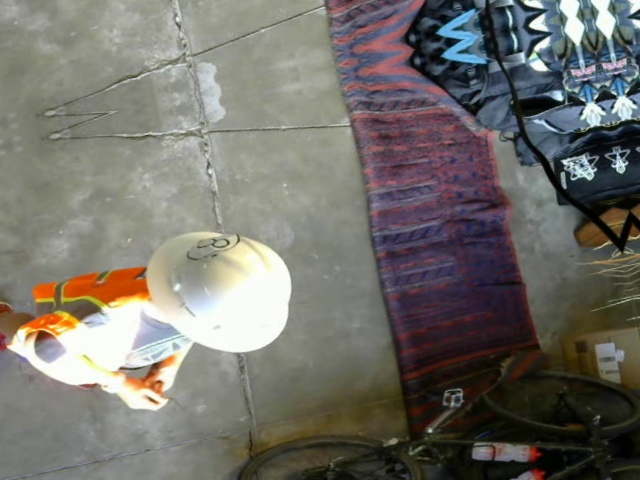eight: (183, 229, 242, 263)
